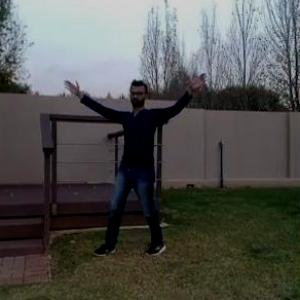takeoff: (61, 74, 208, 262)
